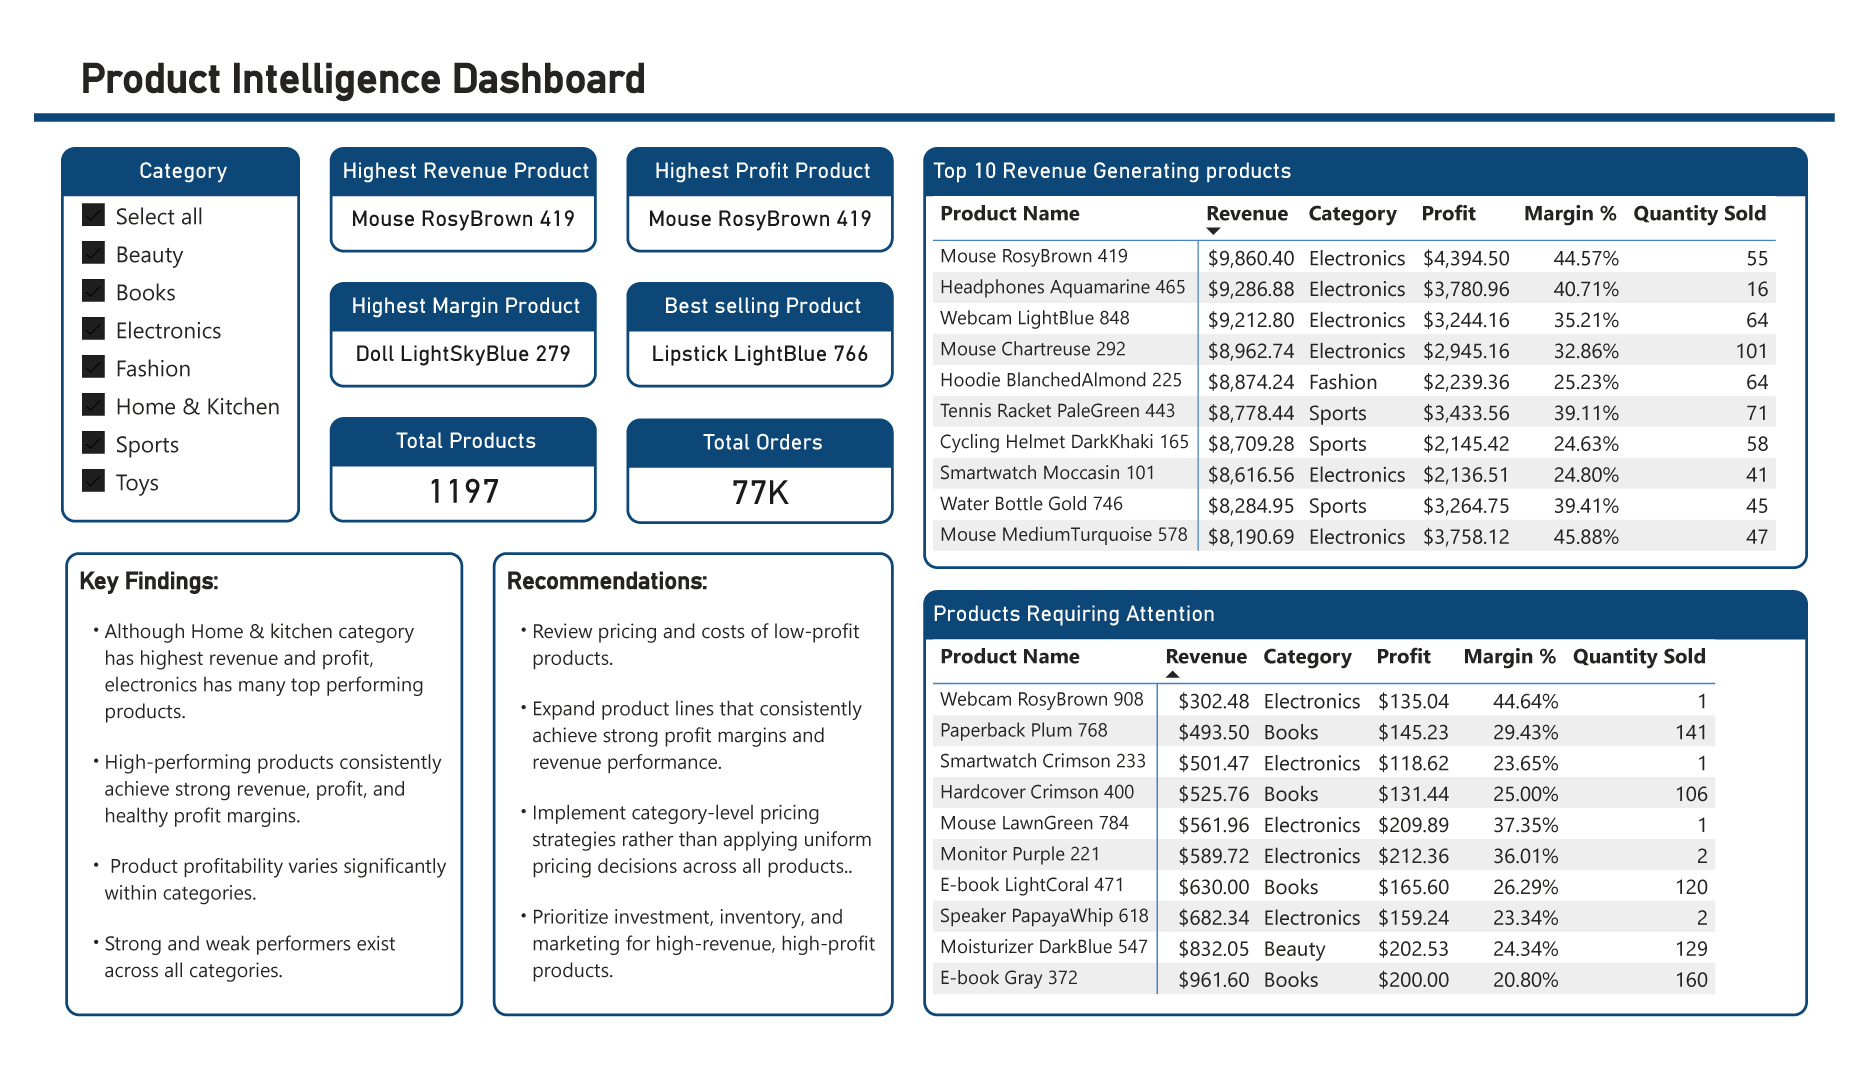

Layout of this report page (visuals, bound fields, positions):
{"tool":"powerbi","page":{"name":"4 - Product Intelligence Dashboard","canvas":[1280,720],"ordinal":3},"visuals":[{"type":"textbox","box":[28.2,9.1,859.1,50],"z":0},{"type":"shape","box":[0,46,1280,26],"z":1000},{"type":"card","title":"Highest Revenue Product","fields":{"Values":["Measures_Table.Product - Top Revenue Product"]},"box":[210,80,190,75],"z":2000},{"type":"slicer","title":"Category","fields":{"Values":["products.category"]},"box":[19.2,79.8,170.2,267.3],"z":3000},{"type":"card","title":"Highest Profit Product","fields":{"Values":["Measures_Table.Product - Top Profit Product"]},"box":[421,80,190,75],"z":4000},{"type":"card","title":"Highest Margin Product","fields":{"Values":["Measures_Table.Product - Highest Margin Product"]},"box":[210,176.2,190,75],"z":5000},{"type":"card","title":"Best selling Product","fields":{"Values":["Measures_Table.Product - Most Discounted Product"]},"box":[421,176.2,190,75],"z":6000},{"type":"card","title":"Total Products","fields":{"Values":["Measures_Table.Product - Total Distinct Products"]},"box":[209.6,272.1,190.4,75],"z":7000},{"type":"pivotTable","title":"Top 10 Revenue Generating products","fields":{"Rows":["products.name"],"Values":["Measures_Table.KPI - Total_Revenue","Min(products.category)","Measures_Table.KPI - Total_profit","Measures_Table.Pricing - Margin%","Sum(order_items.quantity)"]},"box":[632,80,629,300],"z":8000},{"type":"pivotTable","title":"Products Requiring Attention","fields":{"Rows":["products.name"],"Values":["Measures_Table.KPI - Total_Revenue","Min(products.category)","Measures_Table.KPI - Total_profit","Measures_Table.Pricing - Margin%","Sum(order_items.quantity)"]},"box":[631.7,395.2,628.8,302.9],"z":9000},{"type":"card","title":"Total Orders","fields":{"Values":["Sum(order_items.quantity)"]},"box":[420.8,272.5,190,75],"z":10000},{"type":"textbox","box":[22.1,368.3,282.7,329.8],"z":11000},{"type":"textbox","box":[326,368.3,284.6,329.8],"z":12000}]}

Visuals, with their boxes in screenshot pixels (x1, y1, x2, y2), scaled from the page's 1280x720 canvas onto the 1868x1080 screenshot:
textbox: {"x1": 41, "y1": 14, "x2": 1295, "y2": 89}
shape: {"x1": 0, "y1": 69, "x2": 1867, "y2": 108}
"Highest Revenue Product" card: {"x1": 306, "y1": 120, "x2": 584, "y2": 232}
"Category" slicer: {"x1": 28, "y1": 120, "x2": 276, "y2": 521}
"Highest Profit Product" card: {"x1": 614, "y1": 120, "x2": 892, "y2": 232}
"Highest Margin Product" card: {"x1": 306, "y1": 264, "x2": 584, "y2": 377}
"Best selling Product" card: {"x1": 614, "y1": 264, "x2": 892, "y2": 377}
"Total Products" card: {"x1": 306, "y1": 408, "x2": 584, "y2": 521}
"Top 10 Revenue Generating products" pivotTable: {"x1": 922, "y1": 120, "x2": 1840, "y2": 570}
"Products Requiring Attention" pivotTable: {"x1": 922, "y1": 593, "x2": 1840, "y2": 1047}
"Total Orders" card: {"x1": 614, "y1": 409, "x2": 891, "y2": 521}
textbox: {"x1": 32, "y1": 552, "x2": 445, "y2": 1047}
textbox: {"x1": 476, "y1": 552, "x2": 891, "y2": 1047}
